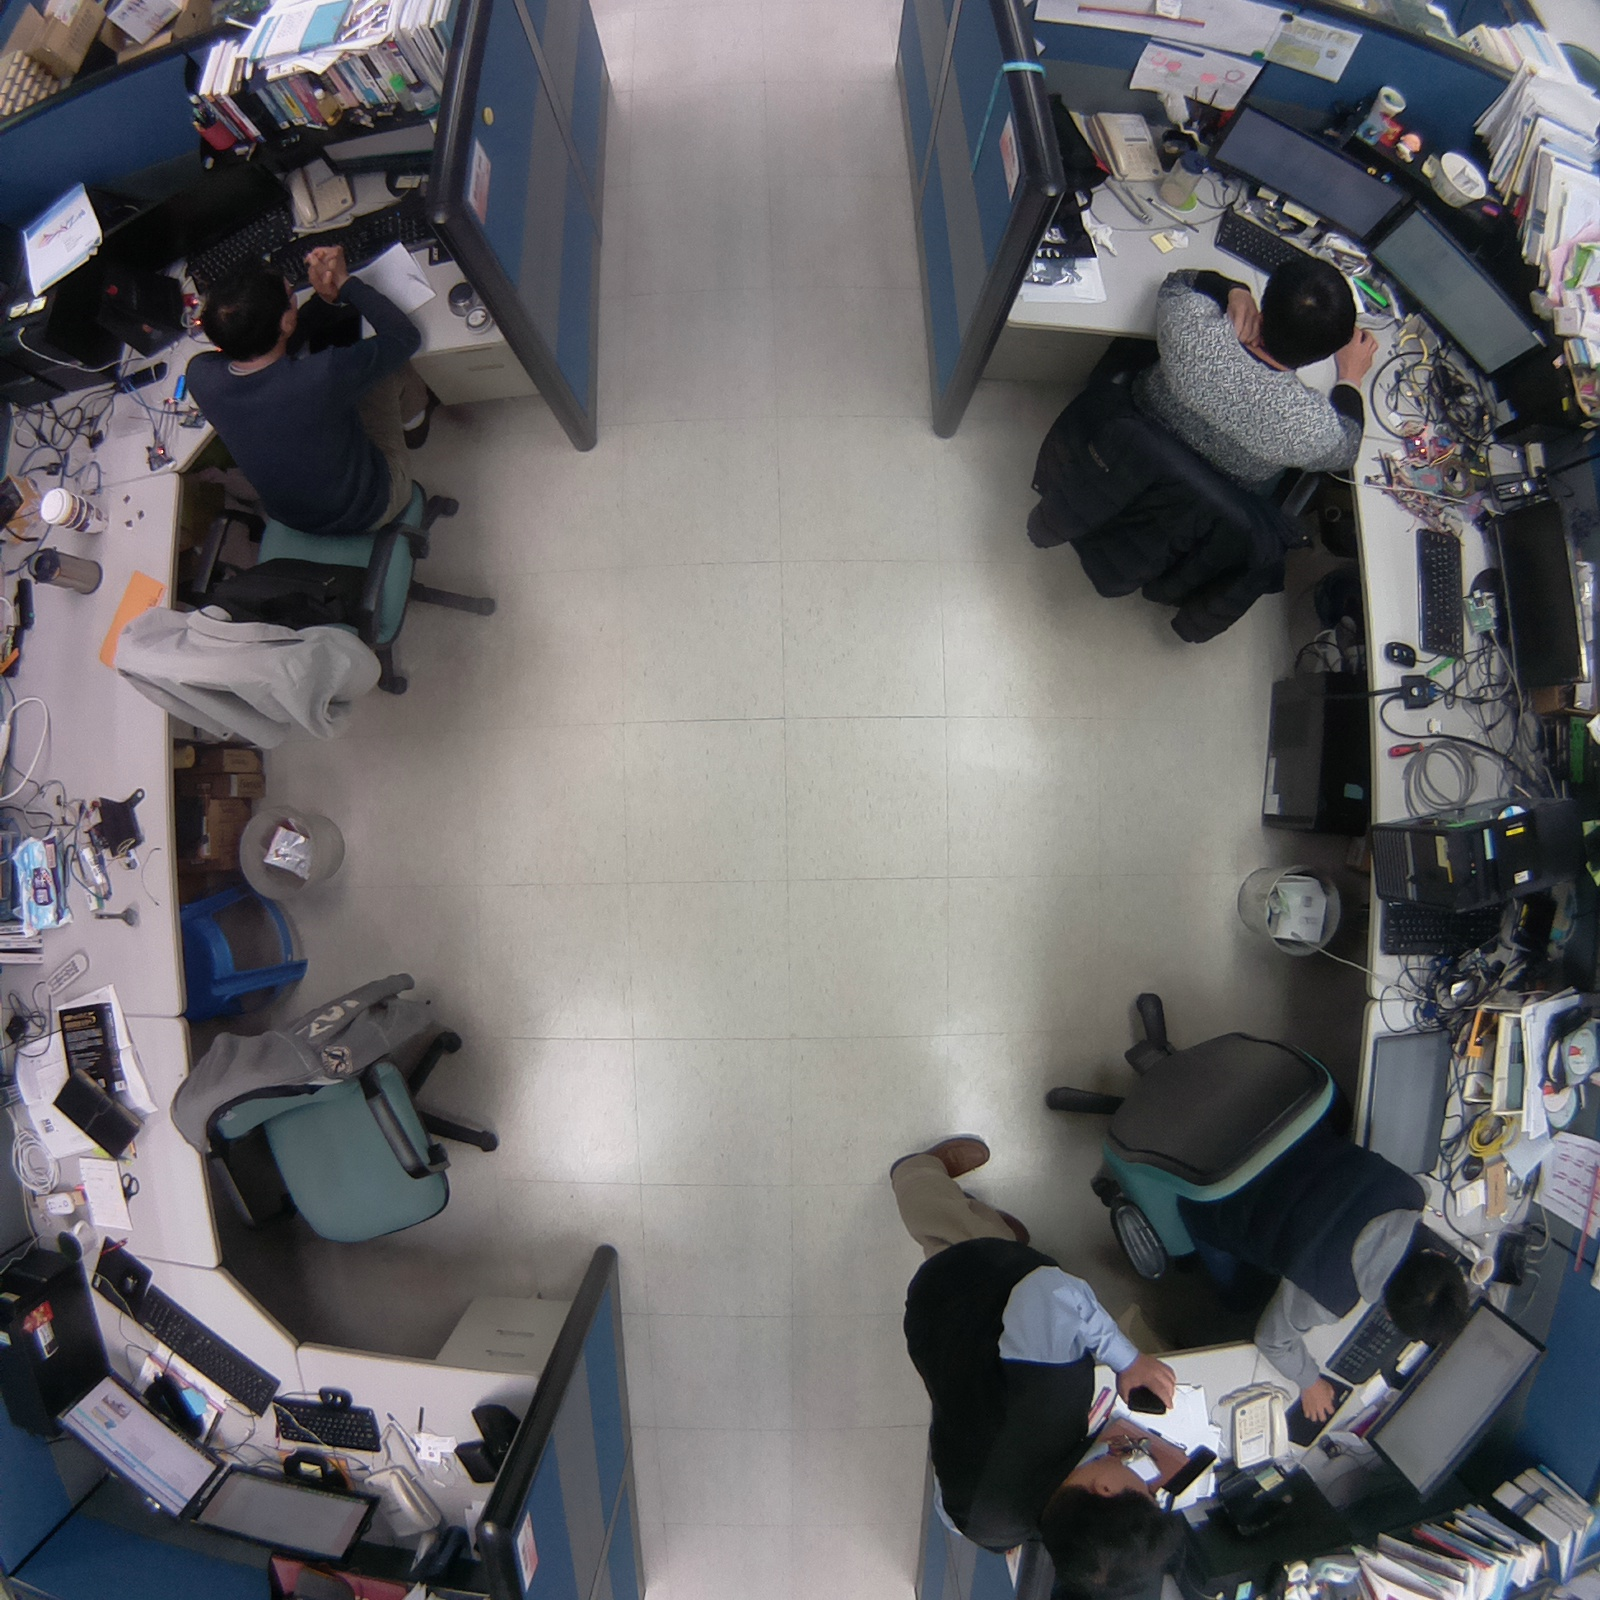chair: (163, 952, 514, 1270)
head: (1046, 1457, 1196, 1600), (1242, 242, 1366, 380), (187, 257, 310, 368), (1380, 1244, 1485, 1344)
sitting: (1029, 981, 1499, 1429), (104, 260, 512, 765), (1024, 237, 1382, 658)
standing: (868, 1124, 1188, 1600)
